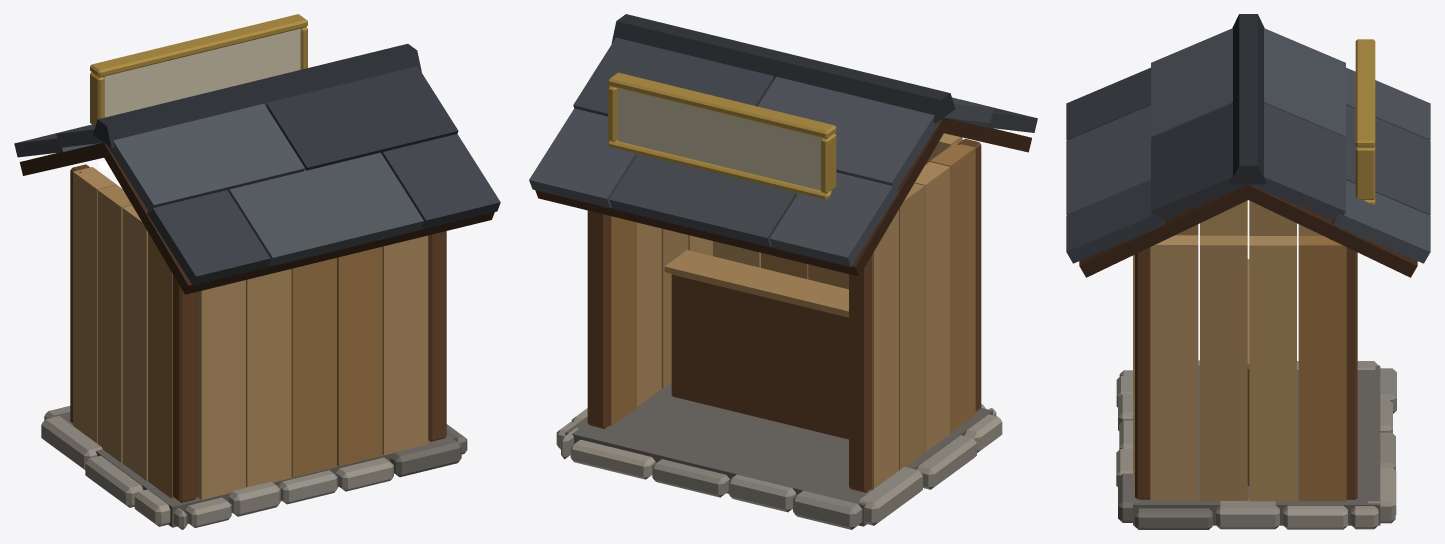
The model's file is GateKiosk.glb.
3 views of the same model, side by side, from view 1: azimuth 30°, elevation 25°; view 2: azimuth 150°, elevation 25°; view 3: azimuth 270°, elevation 25° (orthographic). The views are drawn at different scales.
Parts seen in each view (by area): view 1: Body, Roof, Sign; view 2: Body, Roof, Counter, Sign; view 3: Body, Roof, Counter.
Boxes of the visible parts, x1=… form: Body: x1=41, y1=14, x2=467, y2=529; Roof: x1=14, y1=43, x2=500, y2=294; Sign: x1=103, y1=28, x2=300, y2=117; Body: x1=556, y1=72, x2=1002, y2=529; Roof: x1=529, y1=14, x2=1037, y2=276; Counter: x1=664, y1=250, x2=848, y2=439; Sign: x1=617, y1=88, x2=822, y2=190; Body: x1=1116, y1=39, x2=1396, y2=529; Roof: x1=1066, y1=14, x2=1430, y2=277; Counter: x1=1247, y1=259, x2=1249, y2=485.
Size of what is drawn, in the model's own units: 8.79 by 9.8 by 8.83.
